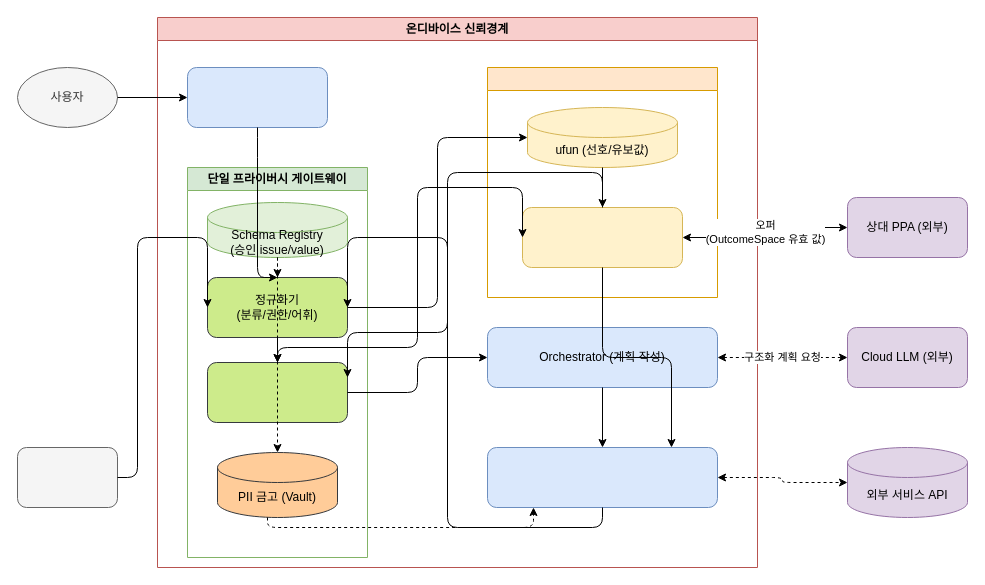
Some shapes in this 985 by 585 pixel diagram are drawn without their labels. Here are the shapes that lost their labels. From the top down, the box of each, then its label:
(186, 66, 328, 128): IDS (Intent 감지)
(486, 66, 718, 298): Meta Agent (협상 두뇌)
(522, 206, 682, 268): 협상 엔진 (NegMAS)
(206, 362, 348, 422): 출력 빌더 (OutcomeSpace/요청)
(16, 446, 118, 508): DPA (가전)
(486, 446, 718, 508): Sub-Agent (실행/조회)
